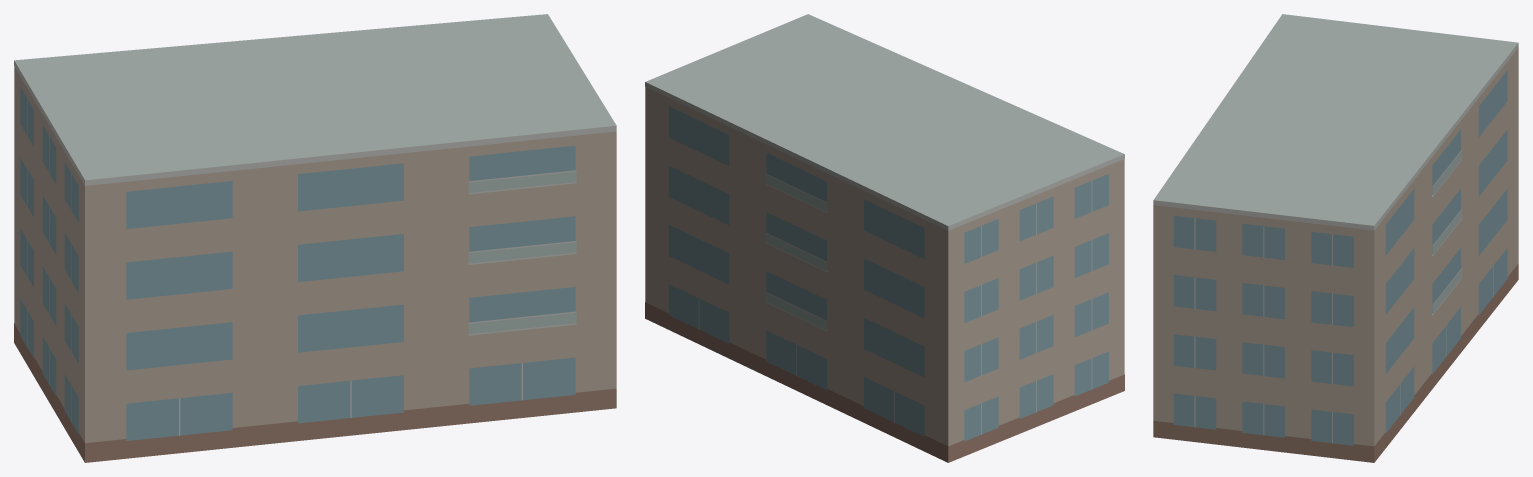
Rendered from survey-upis-32824956.glb.
The picture shows the model from 3 angles, left to right: view 1: azimuth 30°, elevation 25°; view 2: azimuth 150°, elevation 25°; view 3: azimuth 270°, elevation 25°; orthographic projection. The views are drawn at different scales.
Parts seen in each view (by area): view 1: survey-upis-32824956.tmp; view 2: survey-upis-32824956.tmp; view 3: survey-upis-32824956.tmp.
Part boxes in pixels (left/top/right/bottom): survey-upis-32824956.tmp: left=14, top=14, right=616, bottom=462; survey-upis-32824956.tmp: left=645, top=14, right=1124, bottom=462; survey-upis-32824956.tmp: left=1153, top=14, right=1518, bottom=462.
Bounding box in the file's own units: 23.4 × 12.2 × 17.05.
